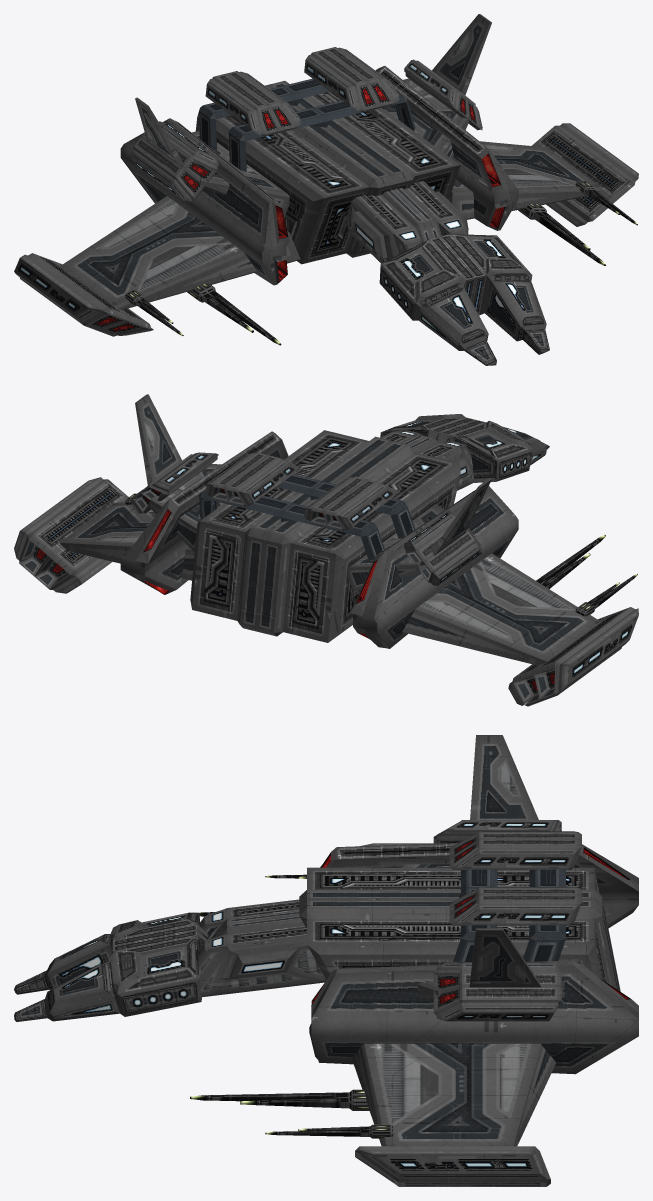
Rendered from zarykorStarship02.FBX.
The picture shows the model from 3 angles, top to bottom: view 1: azimuth 30°, elevation 25°; view 2: azimuth 150°, elevation 25°; view 3: azimuth 270°, elevation 25°; orthographic projection. The views are drawn at different scales.
Visible parts, largest first — view 1: ZarykorStarship02; view 2: ZarykorStarship02; view 3: ZarykorStarship02.
Part boxes in pixels (x1=…): ZarykorStarship02: x1=14, y1=14, x2=638, y2=365; ZarykorStarship02: x1=14, y1=394, x2=638, y2=706; ZarykorStarship02: x1=14, y1=735, x2=638, y2=1186.
Size of the model in its own units: 2.45 by 2.06 by 0.812.
